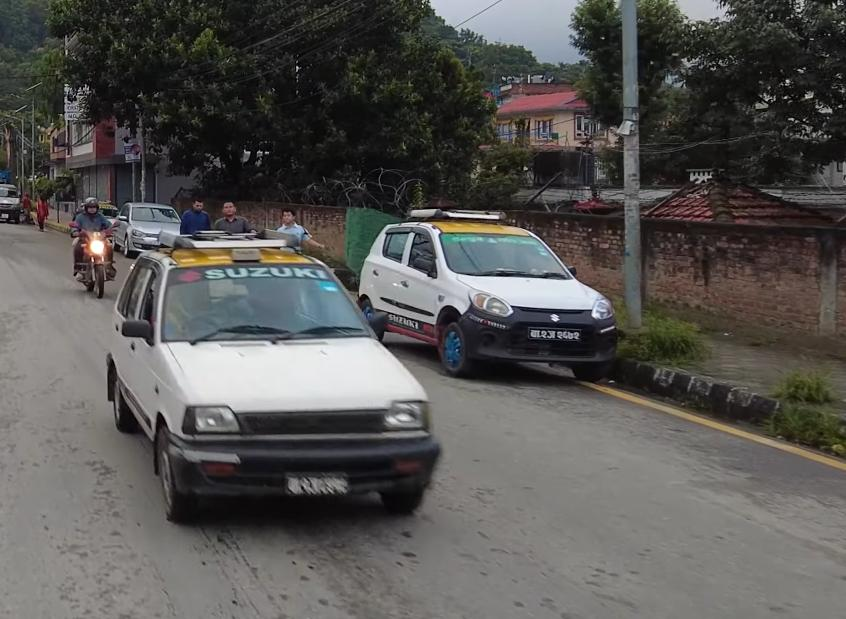bike: (61, 219, 125, 300)
car: (111, 194, 193, 254)
taxi: (104, 235, 445, 525), (358, 204, 629, 389)
